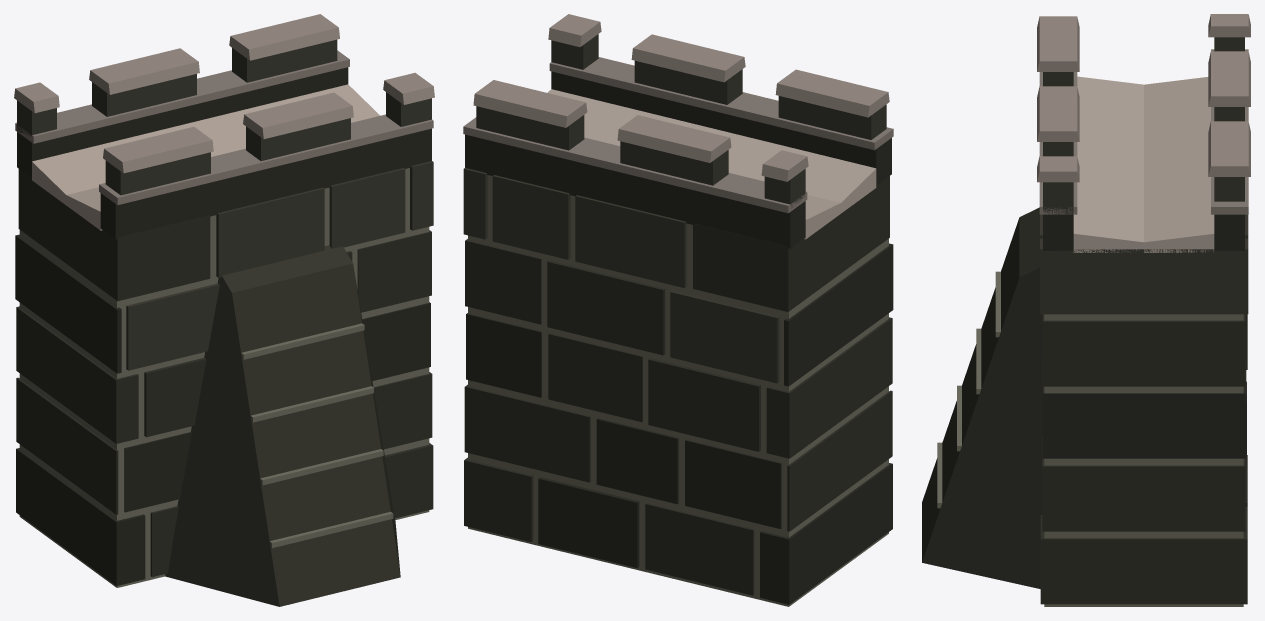
The model's file is AraWall04.glb.
3 renders of one model, left to right at view 1: azimuth 30°, elevation 25°; view 2: azimuth 150°, elevation 25°; view 3: azimuth 270°, elevation 25°, orthographic. The views are drawn at different scales.
Visible parts, largest first — view 1: AraWall04_mortar; view 2: AraWall04_mortar; view 3: AraWall04_mortar.
Boxes of the visible parts, <box> form: AraWall04_mortar: <box>14,14,434,606</box>; AraWall04_mortar: <box>463,14,893,606</box>; AraWall04_mortar: <box>922,14,1250,606</box>.
Size of the model in its own units: 3.16 by 4.08 by 2.79.
